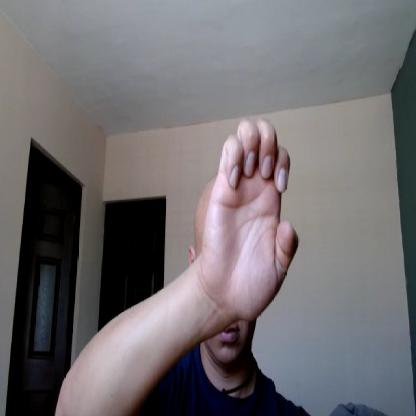E: (204, 118, 300, 316)
